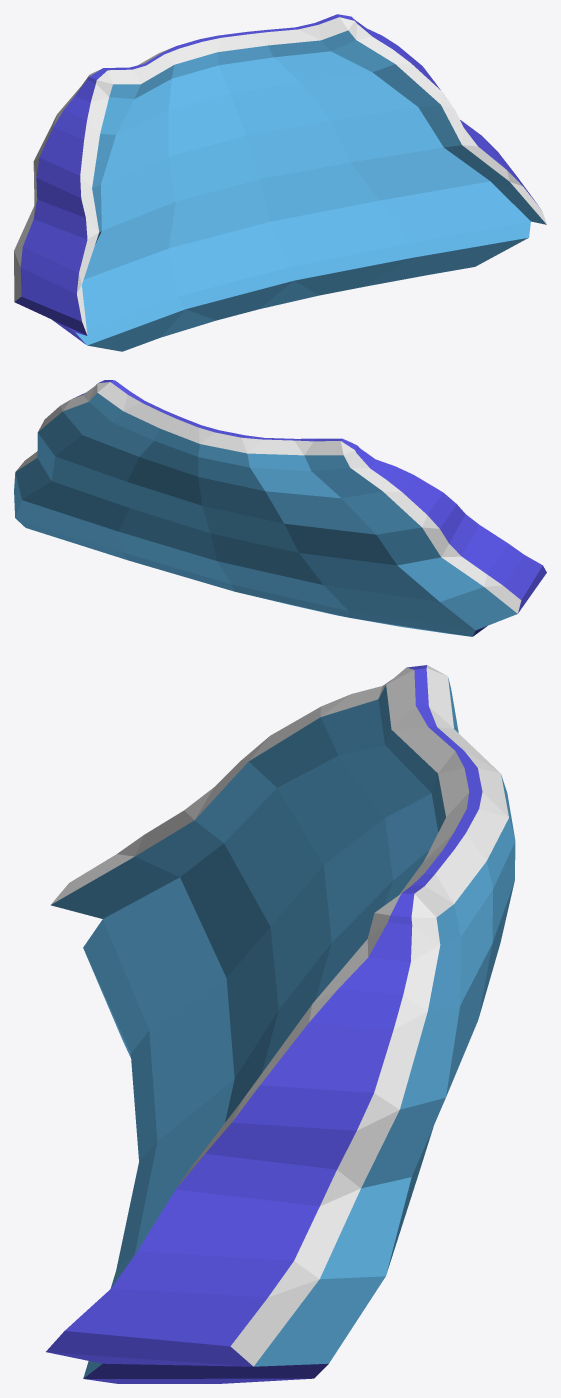
Rendered from Avalanche.fbx.
3 views of the same model, one above another, from view 1: azimuth 30°, elevation 25°; view 2: azimuth 150°, elevation 25°; view 3: azimuth 270°, elevation 25° (orthographic). The views are drawn at different scales.
Visible parts, largest first — view 1: Cube; view 2: Cube; view 3: Cube.
Boxes of the visible parts, x1,y1,x2,y2 form: Cube: [14, 14, 546, 351]; Cube: [14, 380, 546, 636]; Cube: [46, 665, 515, 1383].
Bounding box in the file's own units: 603 × 248 × 246.
